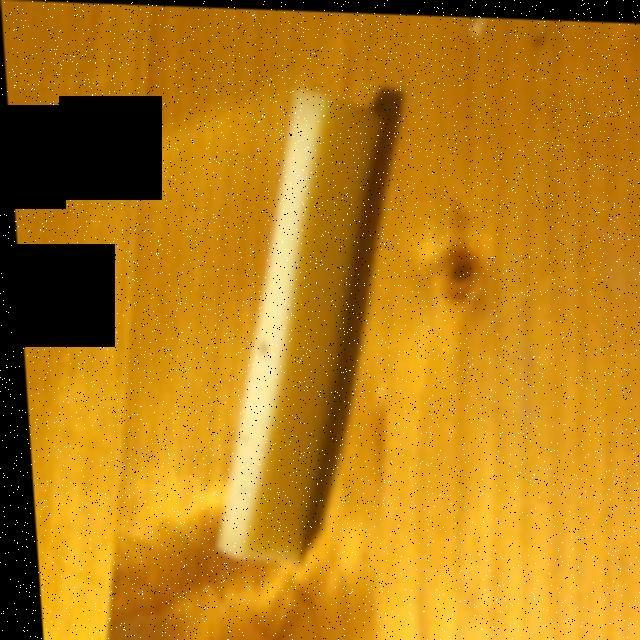cheese: (202, 77, 379, 560)
